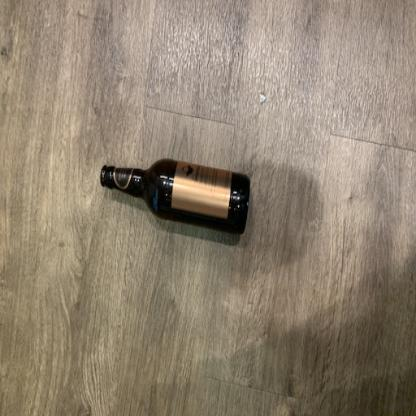trash: (99, 152, 252, 237)
